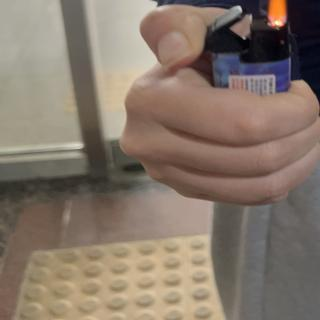fire: (265, 0, 290, 21)
